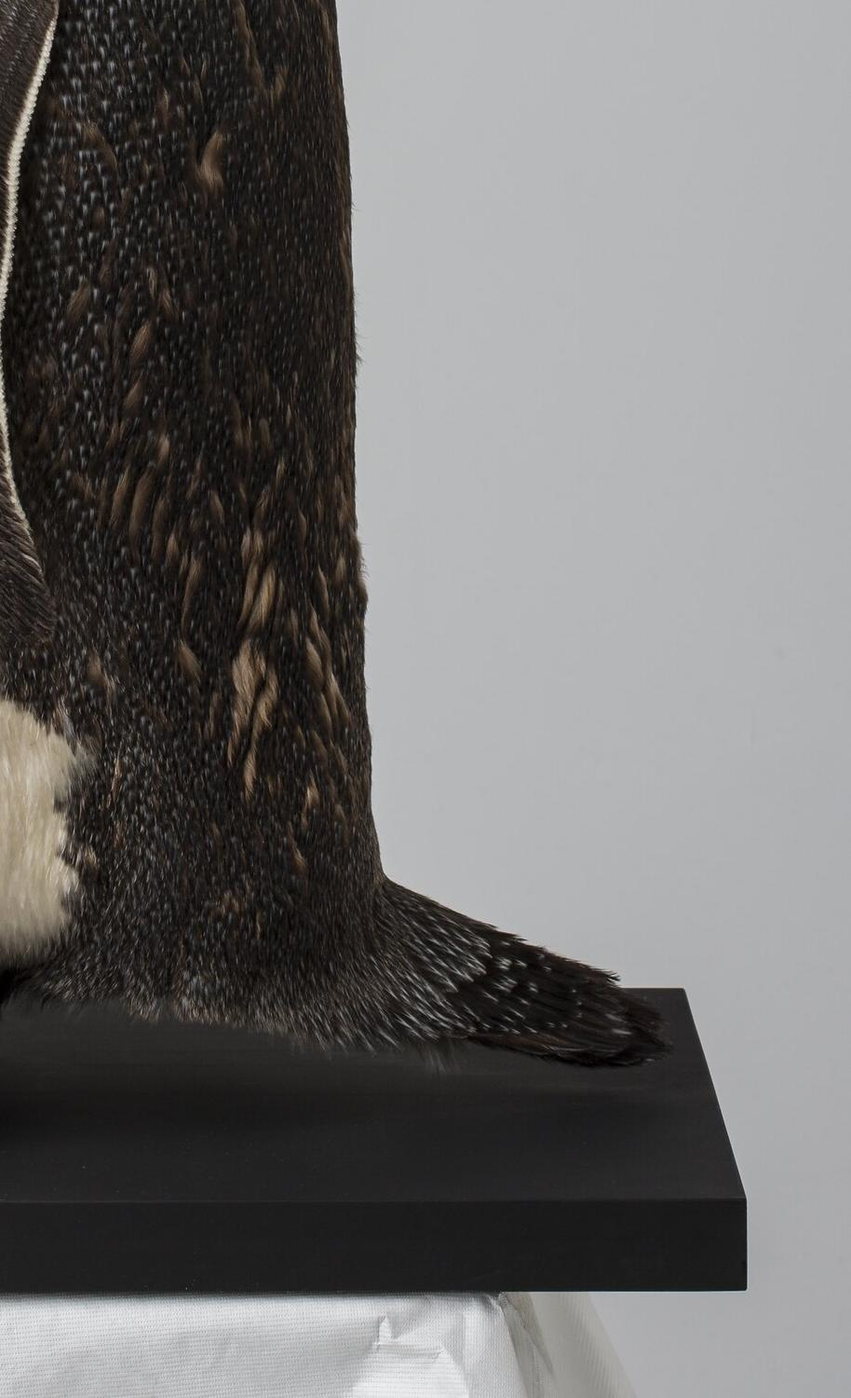Emperor Penguin: (0, 0, 692, 1242)
